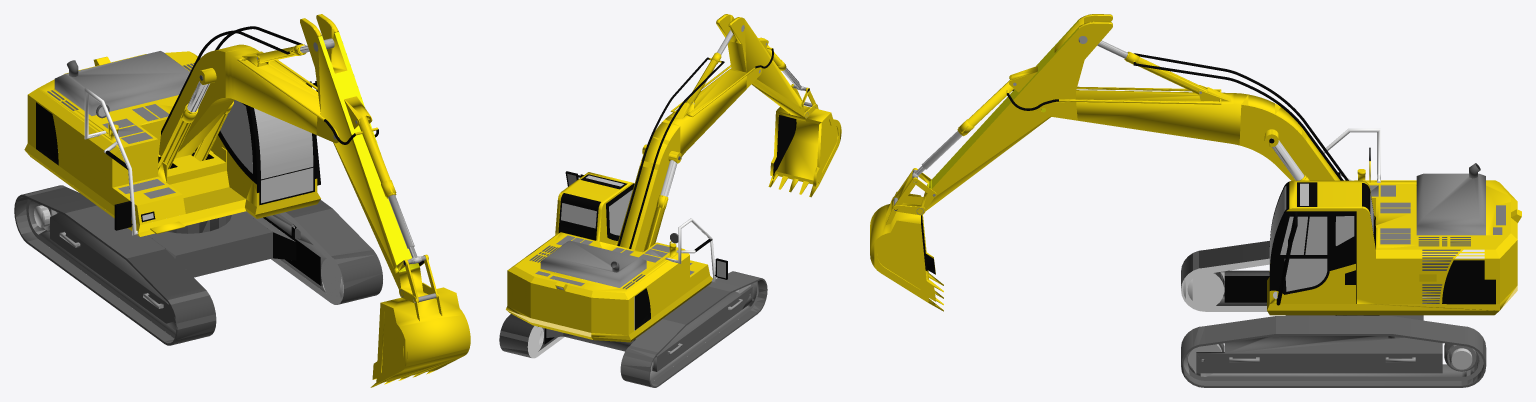
The model's file is excavator_draco.glb.
The picture shows the model from 3 angles, left to right: view 1: azimuth 30°, elevation 25°; view 2: azimuth 150°, elevation 25°; view 3: azimuth 270°, elevation 25°; orthographic projection. The views are drawn at different scales.
Visible parts, largest first — view 1: Model; view 2: Model; view 3: Model.
Part boxes in pixels (x1,y1,x2,y2): Model: [14, 14, 470, 387]; Model: [499, 14, 841, 387]; Model: [870, 14, 1521, 387].
Bounding box in the file's own units: 4.54 × 6.77 × 12.52.
